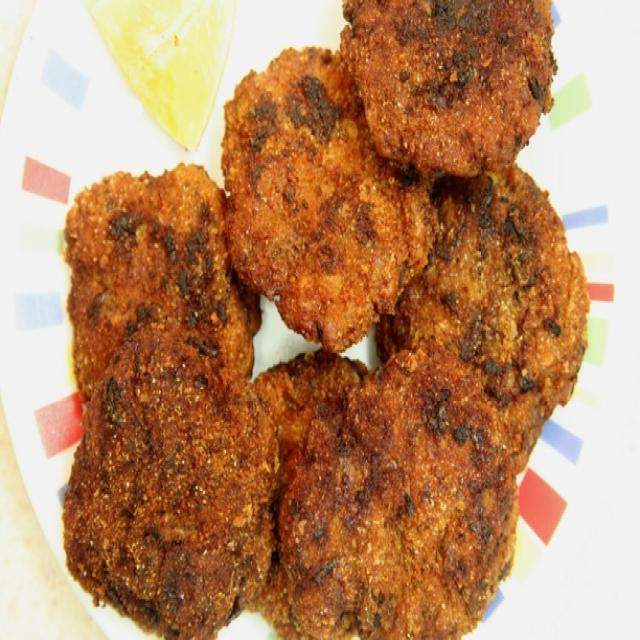鸡肉料理 含炸鸡: (31, 31, 595, 634)
